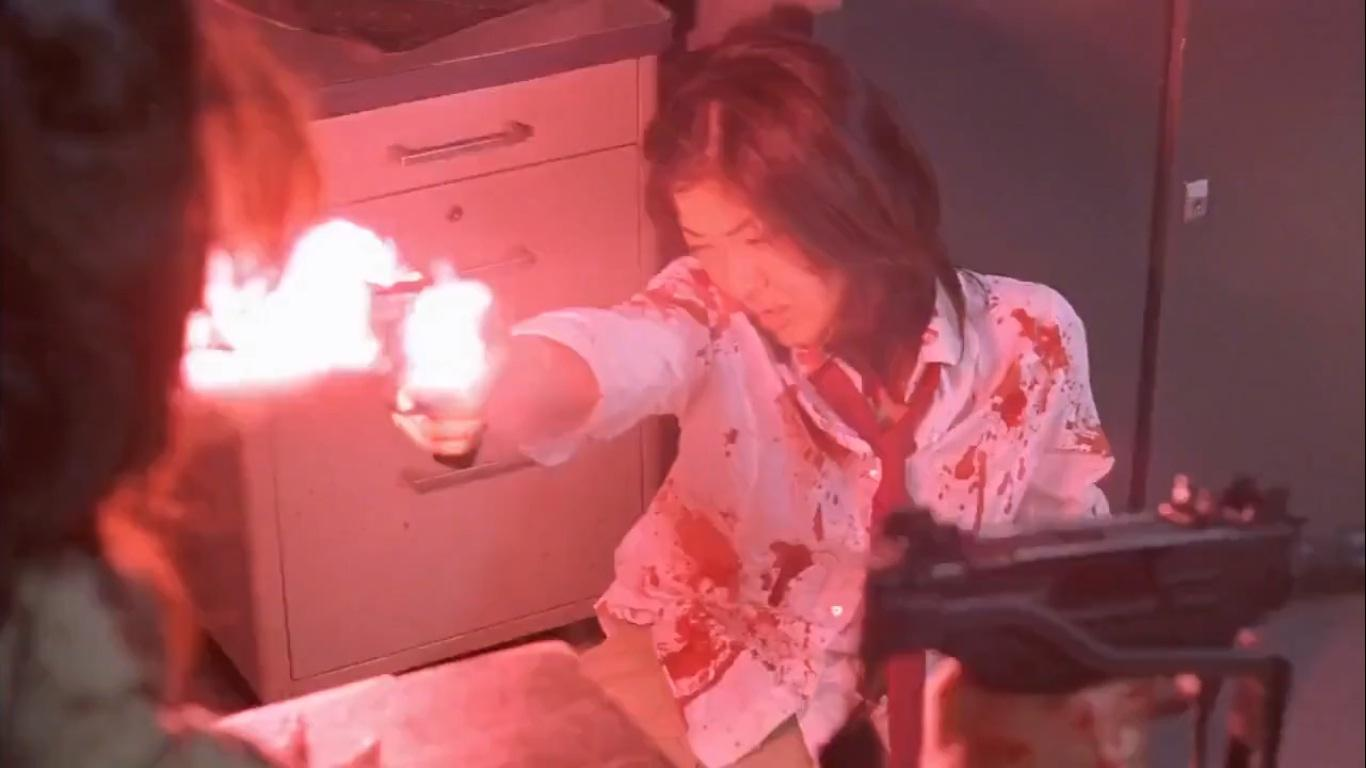blood: (842, 478, 1366, 705)
gun: (438, 368, 505, 488)
